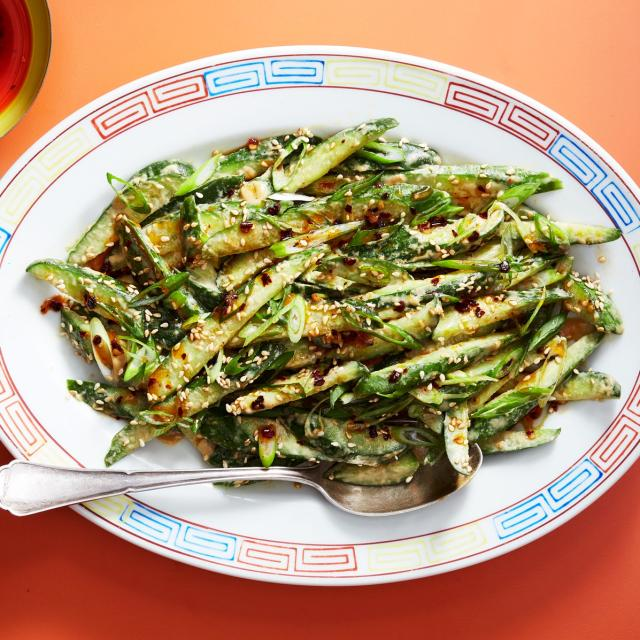Pickle: (148, 245, 329, 403), (468, 332, 602, 442), (354, 330, 519, 398), (272, 118, 399, 192), (226, 361, 369, 415), (432, 288, 571, 341), (26, 259, 138, 318), (356, 270, 502, 312), (380, 165, 562, 198), (209, 135, 296, 181), (69, 204, 118, 265), (104, 422, 168, 466), (444, 401, 472, 474), (180, 196, 208, 259), (348, 222, 402, 246), (498, 182, 539, 208), (511, 255, 545, 276)
